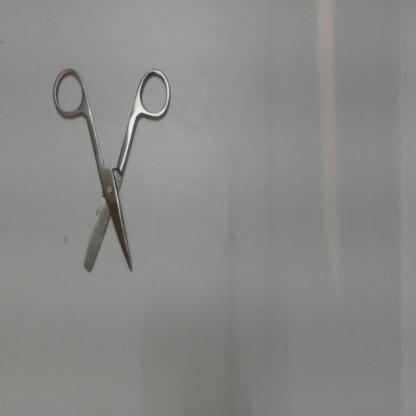Dressing Scissors: (46, 59, 181, 288)
